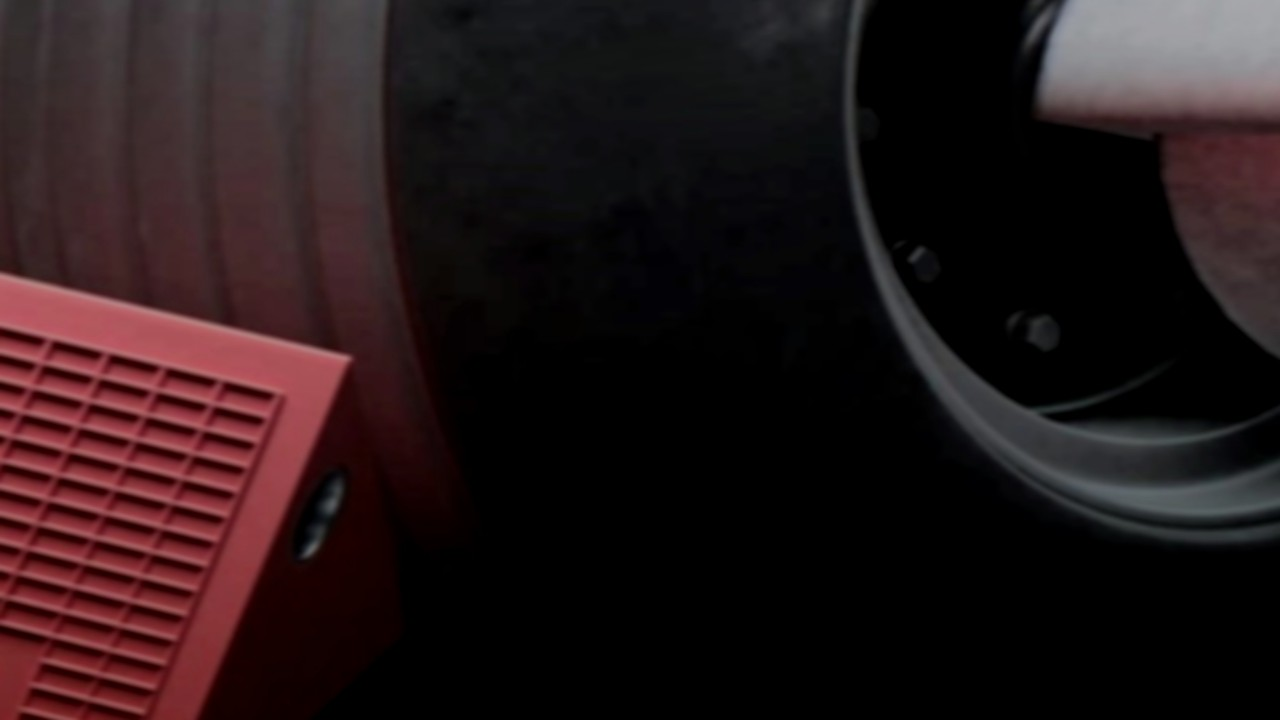chock: (0, 75, 450, 720)
wheel: (0, 0, 1280, 720)
